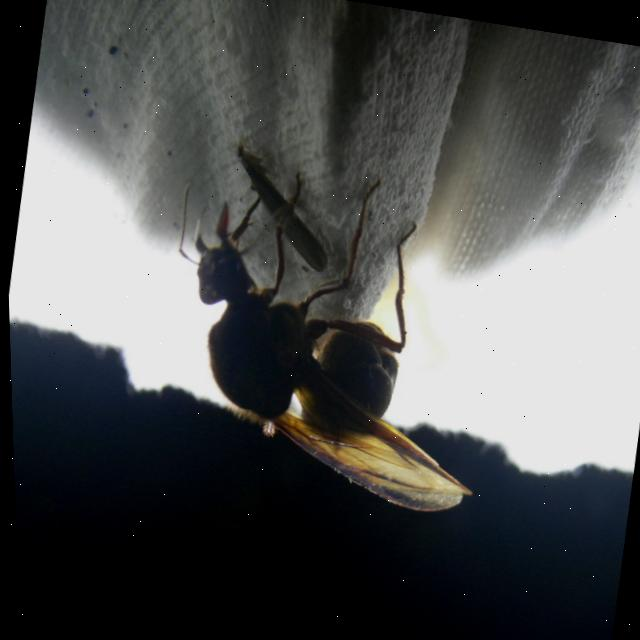Alive-Female-Alate: (137, 145, 517, 520)
